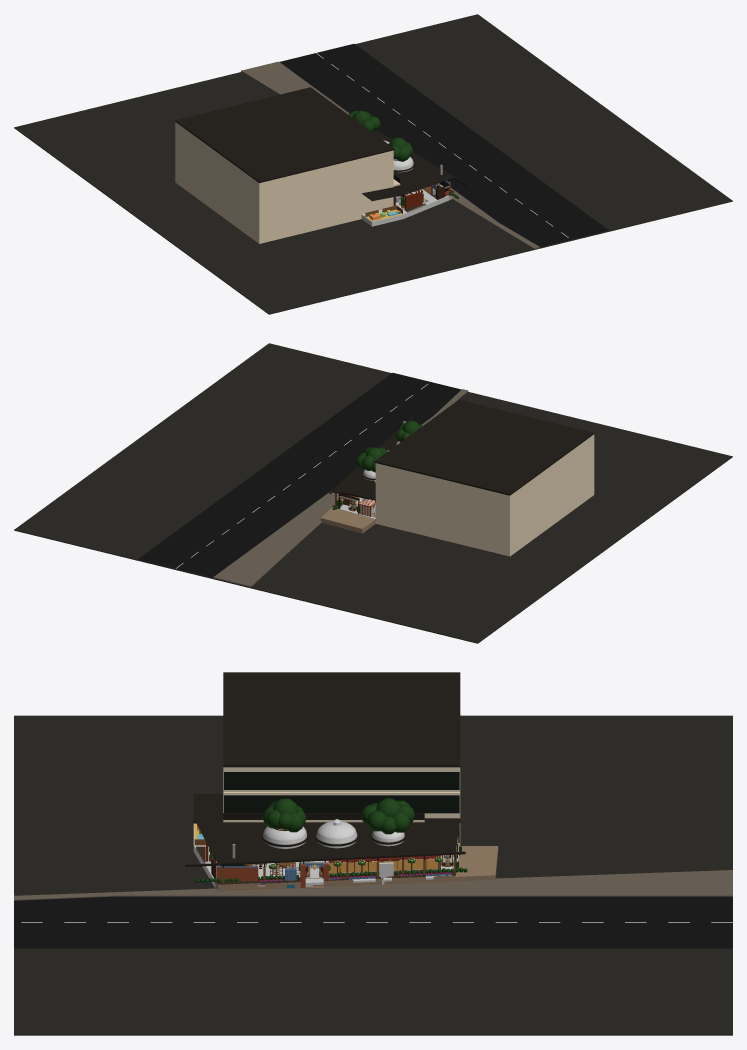
Rendered from samarkand-base3d-R12.obj.
3 renders of one model, top to bottom at view 1: azimuth 30°, elevation 25°; view 2: azimuth 150°, elevation 25°; view 3: azimuth 270°, elevation 25°, orthographic. The views are drawn at different scales.
Parts seen in each view (by area): view 1: ground, road, building_hall, parapet, sidewalk, roof_panel_0, terrace_floor; view 2: ground, road, building_hall, parapet, sidewalk, driveway, roof_panel_6; view 3: ground, road, parapet, sidewalk, facade_glass, roof_panel_0, building_hall, roof_panel_6, chinar_canopy_1, driveway, booth_detail, slab_F2_balcony (+8 smaller).
Boxes of the visible parts, left/top/right/bottom form: ground: left=14, top=14, right=732, bottom=314; road: left=280, top=44, right=608, bottom=248; building_hall: left=175, top=122, right=393, bottom=243; parapet: left=175, top=87, right=394, bottom=182; sidewalk: left=241, top=61, right=539, bottom=249; roof_panel_0: left=362, top=166, right=454, bottom=201; terrace_floor: left=361, top=189, right=452, bottom=226; ground: left=14, top=343, right=732, bottom=643; road: left=138, top=373, right=467, bottom=577; building_hall: left=375, top=434, right=594, bottom=556; parapet: left=374, top=400, right=594, bottom=495; sidewalk: left=213, top=389, right=468, bottom=587; driveway: left=320, top=507, right=375, bottom=533; roof_panel_6: left=332, top=476, right=375, bottom=499; ground: left=14, top=715, right=732, bottom=1035; road: left=14, top=896, right=732, bottom=948; parapet: left=223, top=672, right=460, bottom=767; sidewalk: left=14, top=870, right=732, bottom=900; facade_glass: left=224, top=772, right=459, bottom=842; roof_panel_0: left=193, top=794, right=263, bottom=863; building_hall: left=223, top=767, right=460, bottom=845; roof_panel_6: left=404, top=818, right=460, bottom=855; chinar_canopy_1: left=360, top=798, right=414, bottom=834; driveway: left=455, top=846, right=498, bottom=881; booth_detail: left=328, top=855, right=440, bottom=875; slab_F2_balcony: left=223, top=792, right=460, bottom=822.
Bounding box in the file's own units: 105 × 13.6 × 100.
